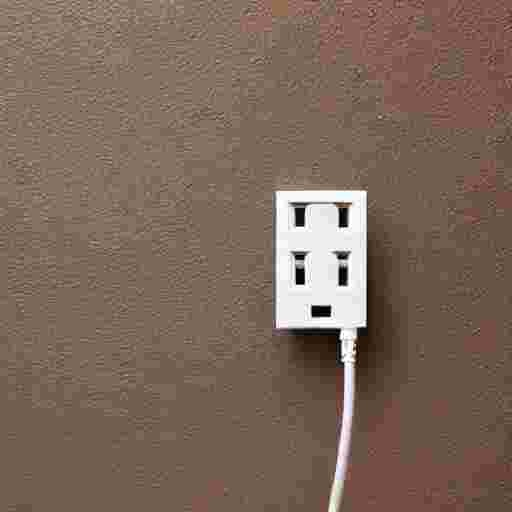power outlet: (273, 190, 366, 328)
